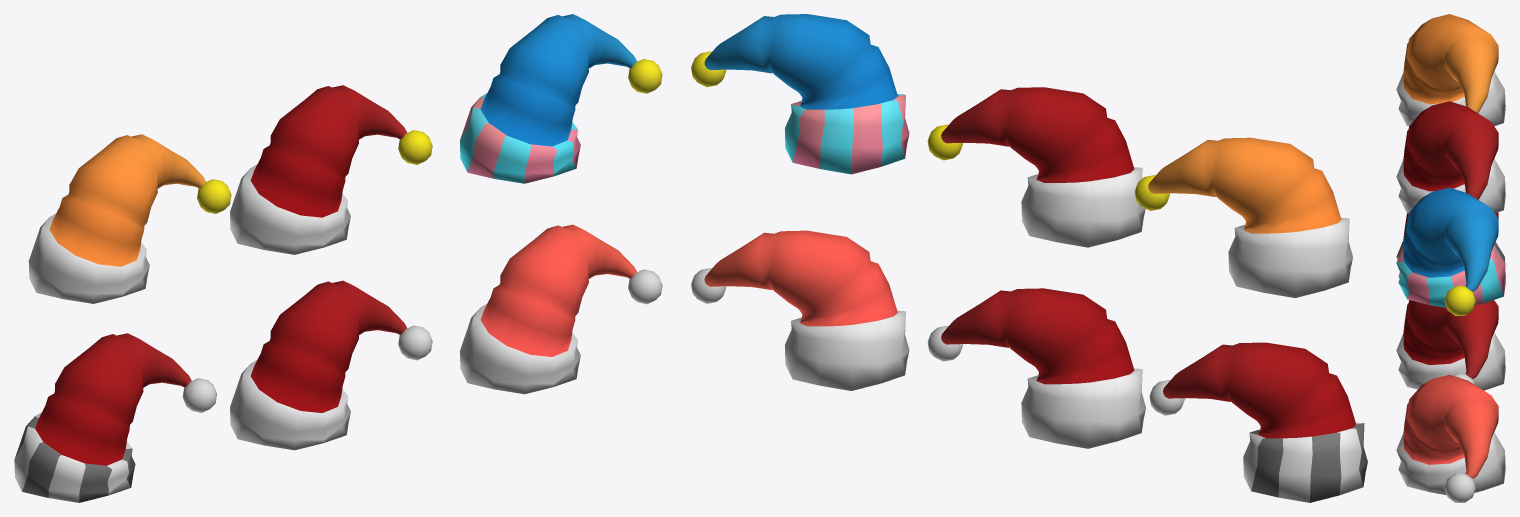
Rendered from Christmas Cap.glb.
The picture shows the model from 3 angles, left to right: view 1: azimuth 30°, elevation 25°; view 2: azimuth 150°, elevation 25°; view 3: azimuth 270°, elevation 25°; orthographic projection. The views are drawn at different scales.
Parts seen in each view (by area): view 1: Cap, BézierCurve.002, Cap.002, Cap.001, Cap.004, Cap.003; view 2: Cap, BézierCurve.002, Cap.002, Cap.003, Cap.001, Cap.004; view 3: Cap.003, Cap.002, Cap.001, Cap.004, Cap, BézierCurve.002.
Boxes of the visible parts, box(x1,y1,x2,y2) form: Cap: box(230, 280, 432, 450); BézierCurve.002: box(14, 333, 216, 502); Cap.002: box(460, 224, 662, 394); Cap.001: box(28, 134, 231, 303); Cap.004: box(230, 85, 432, 254); Cap.003: box(460, 14, 662, 183); Cap: box(927, 288, 1145, 448); BézierCurve.002: box(1149, 342, 1367, 502); Cap.002: box(691, 230, 909, 390); Cap.003: box(691, 14, 909, 174); Cap.001: box(1134, 137, 1352, 297); Cap.004: box(927, 87, 1145, 247); Cap.003: box(1396, 187, 1505, 315); Cap.002: box(1396, 374, 1505, 502); Cap.001: box(1396, 14, 1505, 126); Cap.004: box(1396, 101, 1505, 213); Cap: box(1396, 300, 1505, 390); BézierCurve.002: box(1396, 212, 1505, 278).
Bounding box in the file's own units: 4.48 × 2.19 × 0.7414.
1 material, 1 textured.
